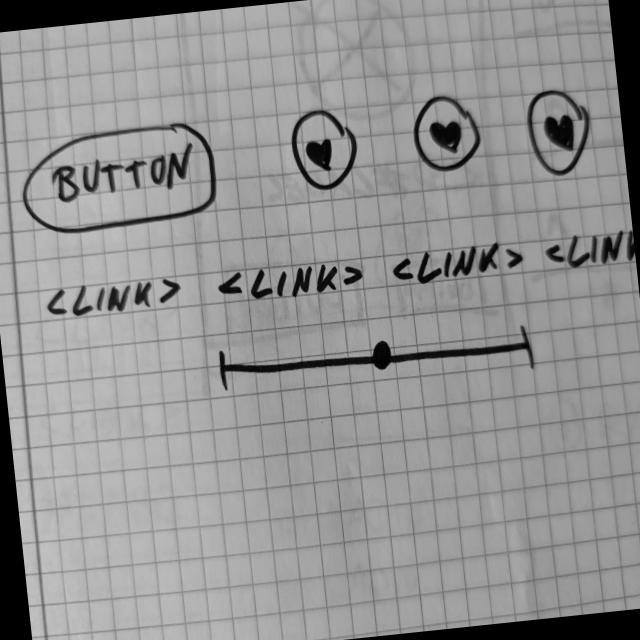button: (14, 114, 226, 245)
icon-button: (285, 103, 367, 201), (522, 84, 600, 185), (408, 90, 487, 179)
link: (214, 252, 368, 309), (387, 234, 527, 293), (42, 271, 186, 327), (540, 220, 638, 278)
slider: (213, 314, 542, 407)
